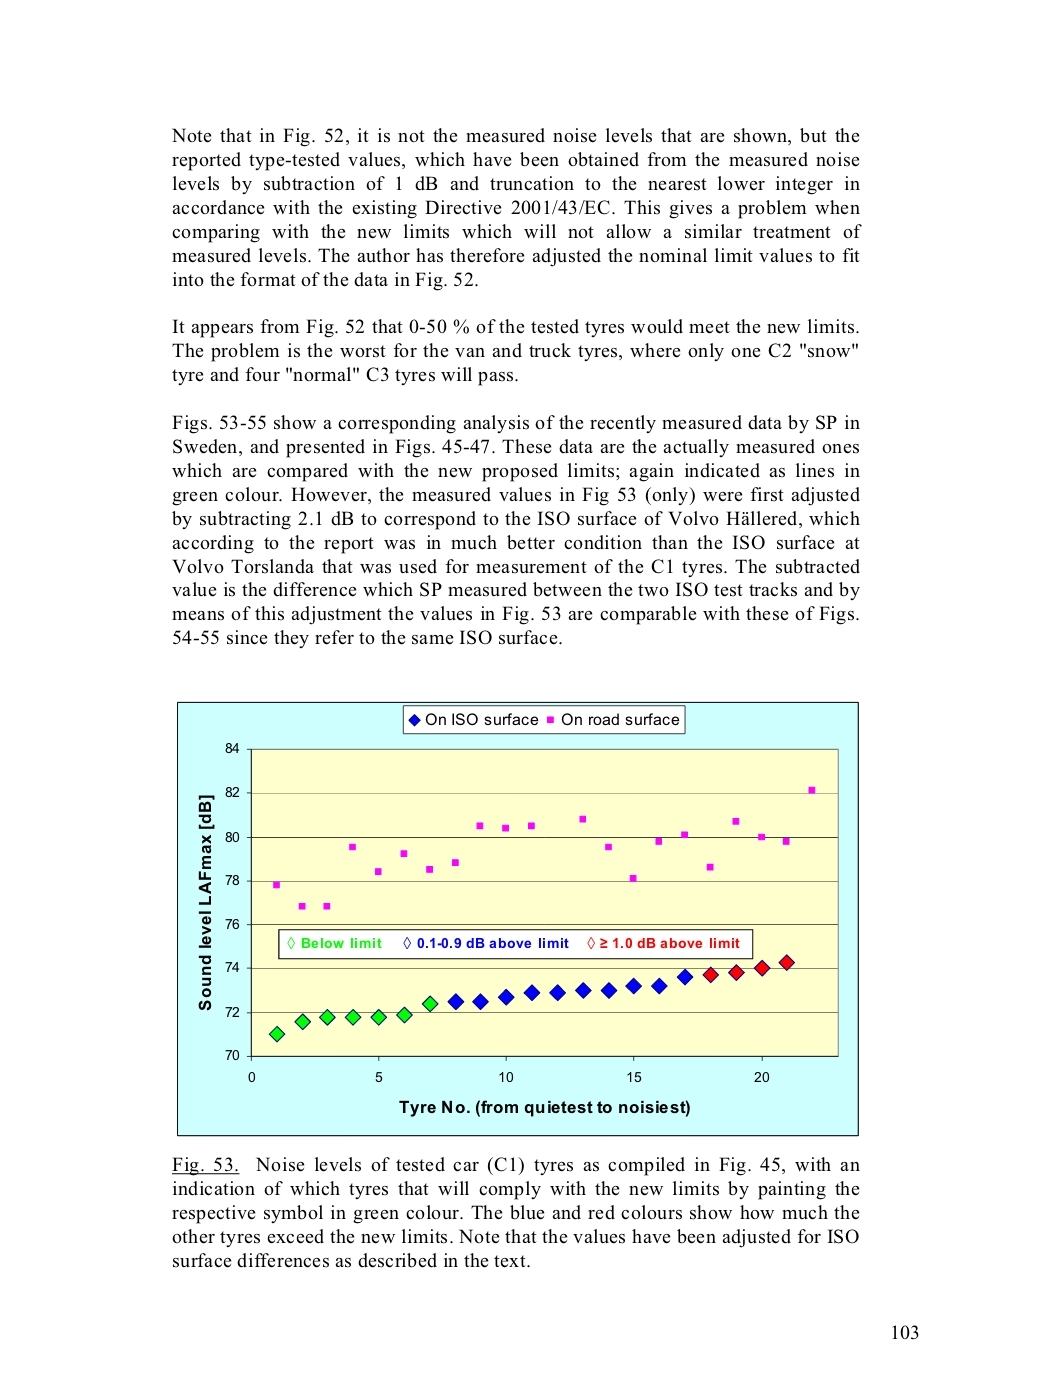figure: (177, 700, 858, 1137)
